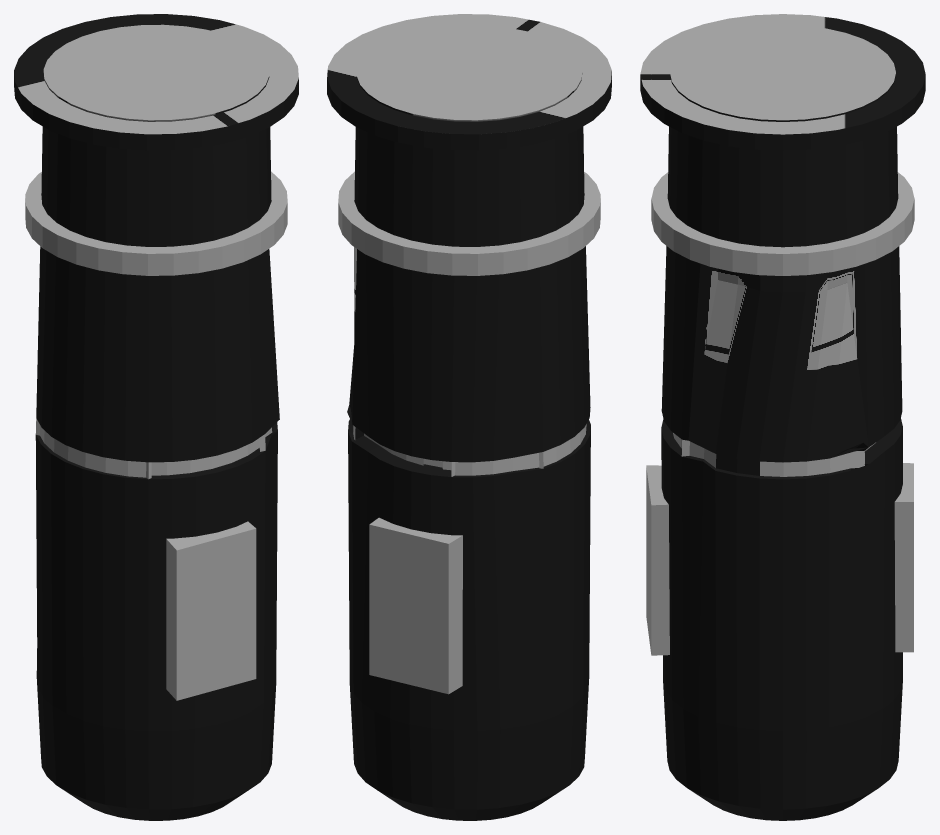
The model's file is testHilt.glb.
The picture shows the model from 3 angles, left to right: view 1: azimuth 30°, elevation 25°; view 2: azimuth 150°, elevation 25°; view 3: azimuth 270°, elevation 25°; orthographic projection.
Parts seen in each view (by area): view 1: Cube; view 2: Cube; view 3: Cube.
Part boxes in pixels (x1,y1,x2,y2): Cube: (14, 14, 298, 820); Cube: (327, 14, 611, 820); Cube: (640, 14, 925, 820).
Bounding box in the file's own units: 1 × 2.76 × 1.
1 material, 1 textured.
